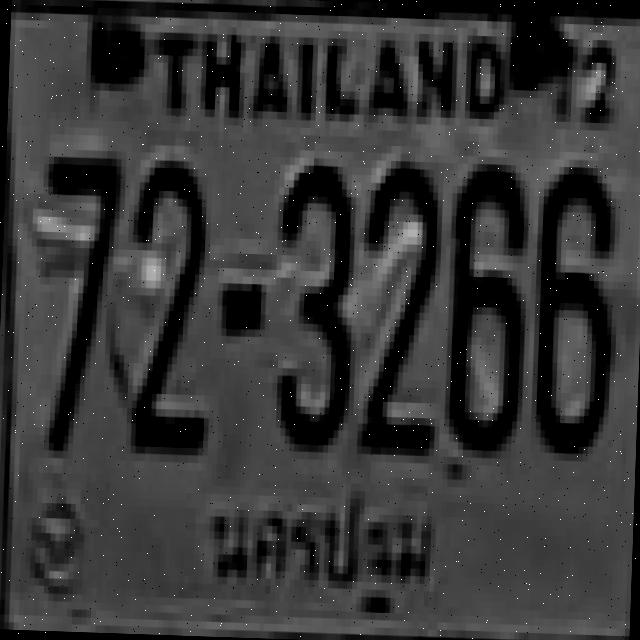2: (123, 155, 210, 451), (356, 156, 438, 452)
3: (270, 156, 352, 444)
6: (528, 158, 614, 446), (444, 155, 526, 443)
7: (32, 148, 118, 452)
NakhonPathom: (199, 472, 450, 634)
